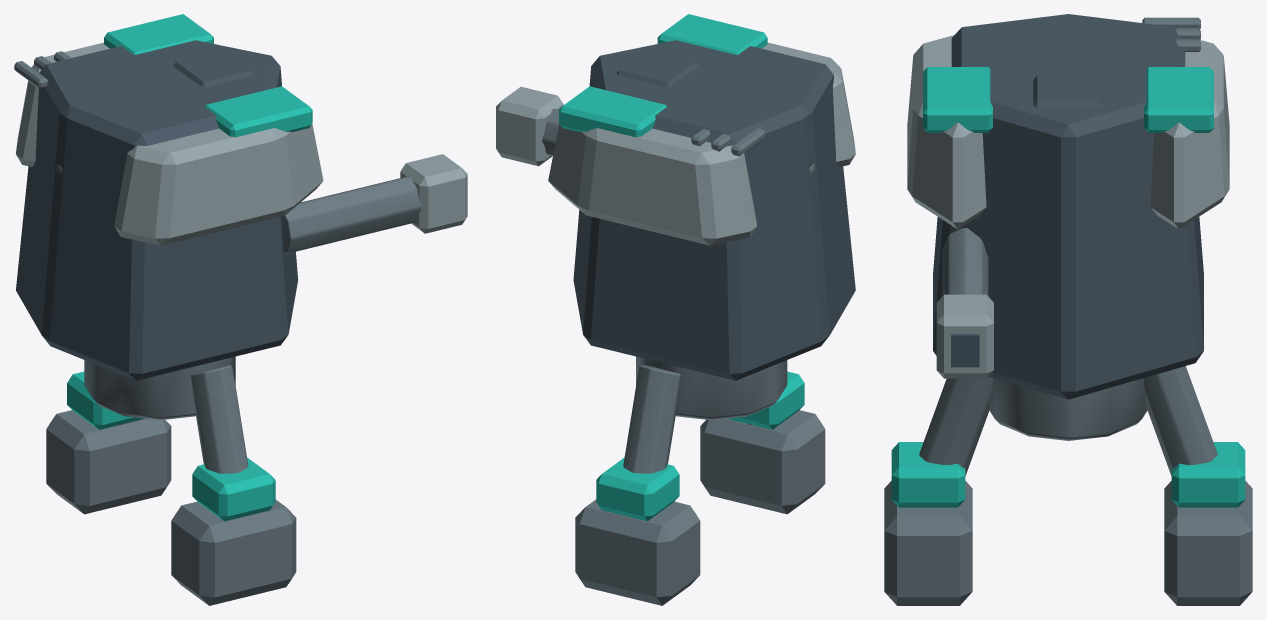
Rendered from SM_Ember.fbx.
3 renders of one model, left to right at view 1: azimuth 30°, elevation 25°; view 2: azimuth 150°, elevation 25°; view 3: azimuth 270°, elevation 25°, orthographic. The views are drawn at different scales.
Visible parts, largest first — view 1: SM_Ember; view 2: SM_Ember; view 3: SM_Ember.
Part boxes in pixels (x1,y1,x2,y2): SM_Ember: [14, 14, 467, 605]; SM_Ember: [496, 14, 855, 605]; SM_Ember: [884, 14, 1252, 605].
Size of the model in its own units: 40 by 30.85 by 48.
